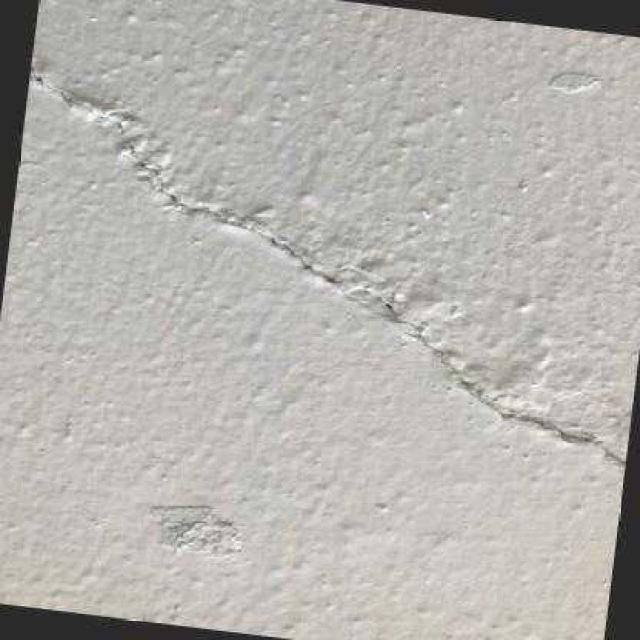D00: (28, 63, 625, 463)
